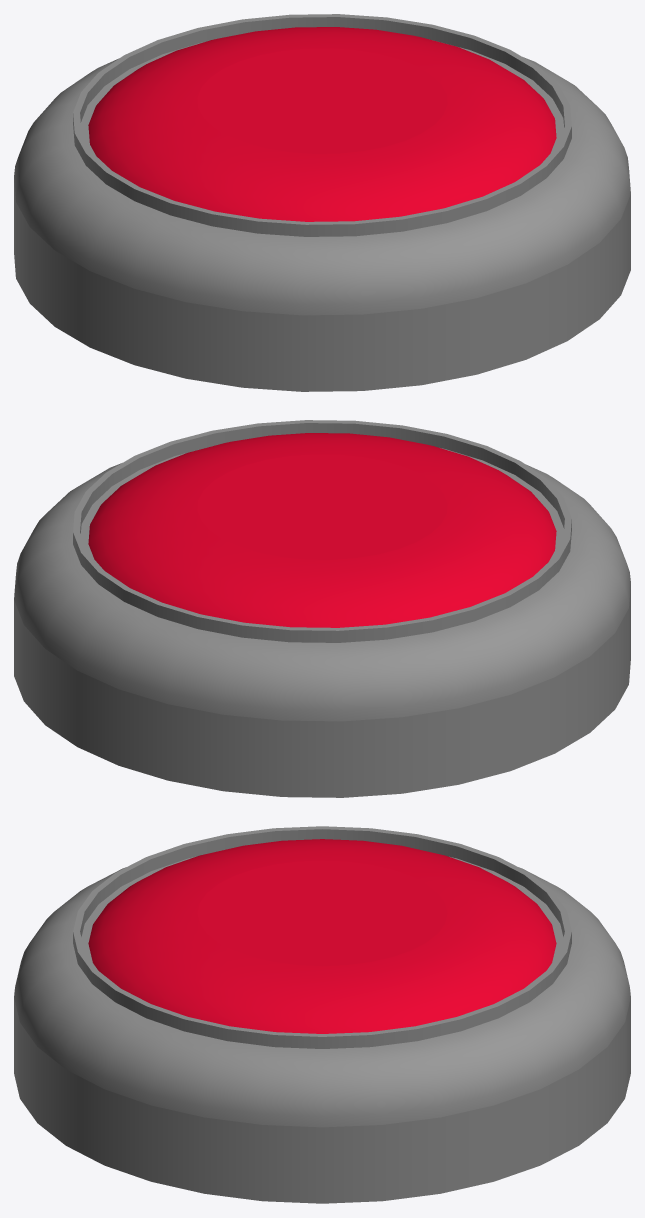
Rendered from gamejambutton.fbx.
3 renders of one model, top to bottom at view 1: azimuth 30°, elevation 25°; view 2: azimuth 150°, elevation 25°; view 3: azimuth 270°, elevation 25°, orthographic.
Parts seen in each view (by area): view 1: Cylinder, Cylinder.001; view 2: Cylinder, Cylinder.001; view 3: Cylinder, Cylinder.001.
Boxes of the visible parts, x1=… form: Cylinder: x1=14, y1=14, x2=630, y2=391; Cylinder.001: x1=88, y1=27, x2=556, y2=221; Cylinder: x1=14, y1=420, x2=630, y2=797; Cylinder.001: x1=88, y1=433, x2=556, y2=627; Cylinder: x1=14, y1=826, x2=630, y2=1203; Cylinder.001: x1=88, y1=839, x2=556, y2=1033.
Bounding box in the file's own units: 662 × 190 × 662.
